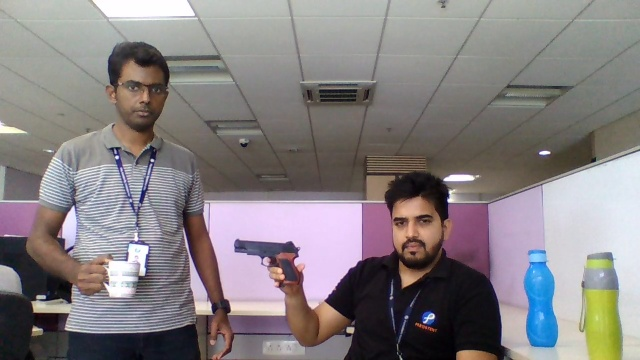gun: (234, 239, 298, 268)
